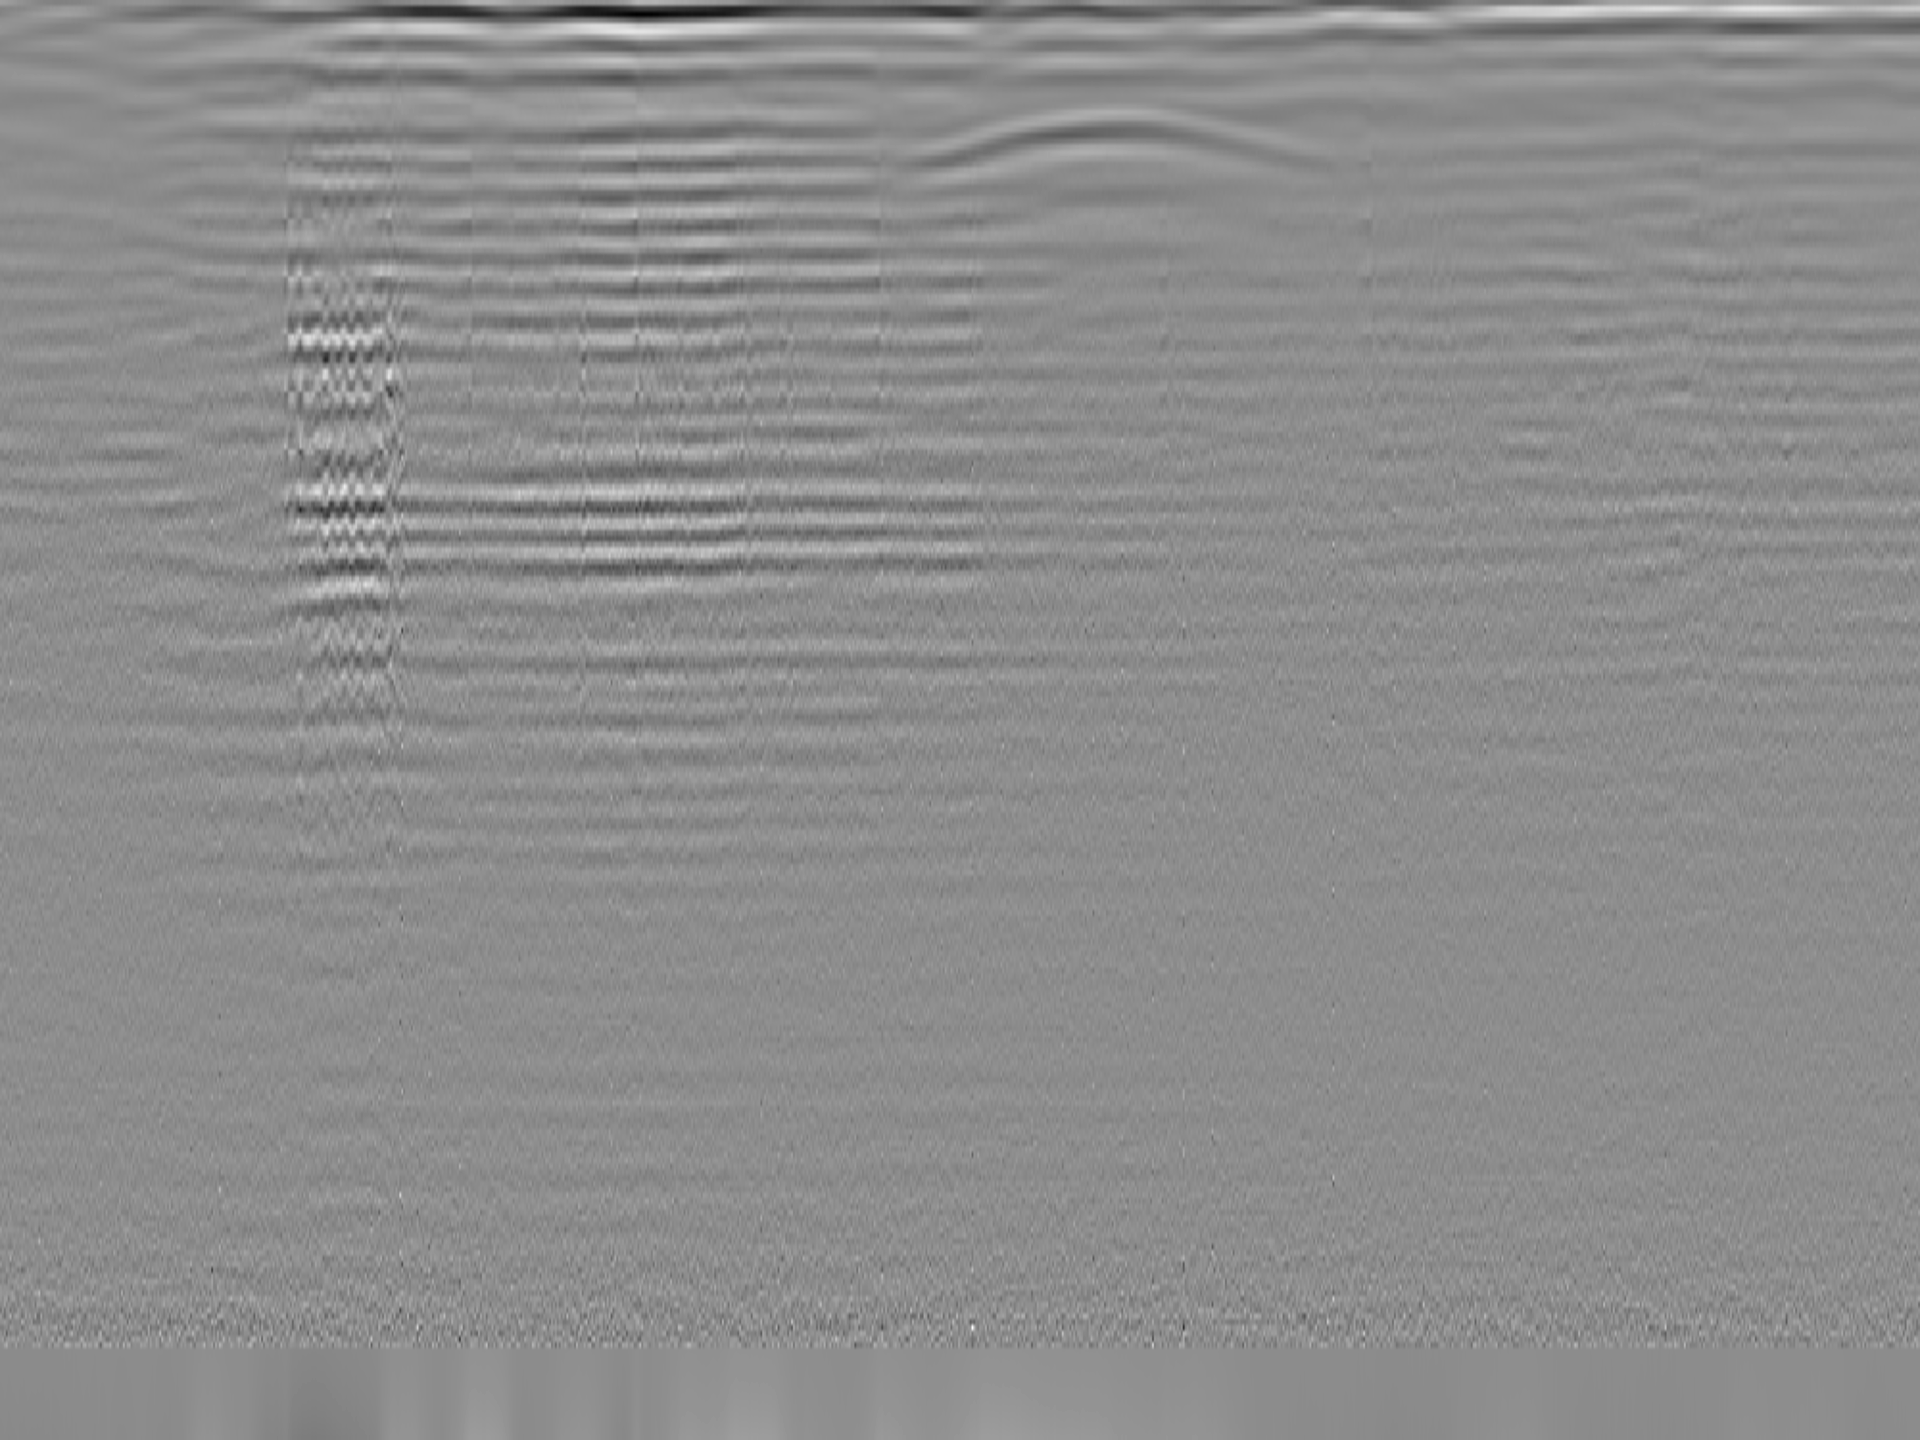Tunnel: (913, 112, 1349, 175)
